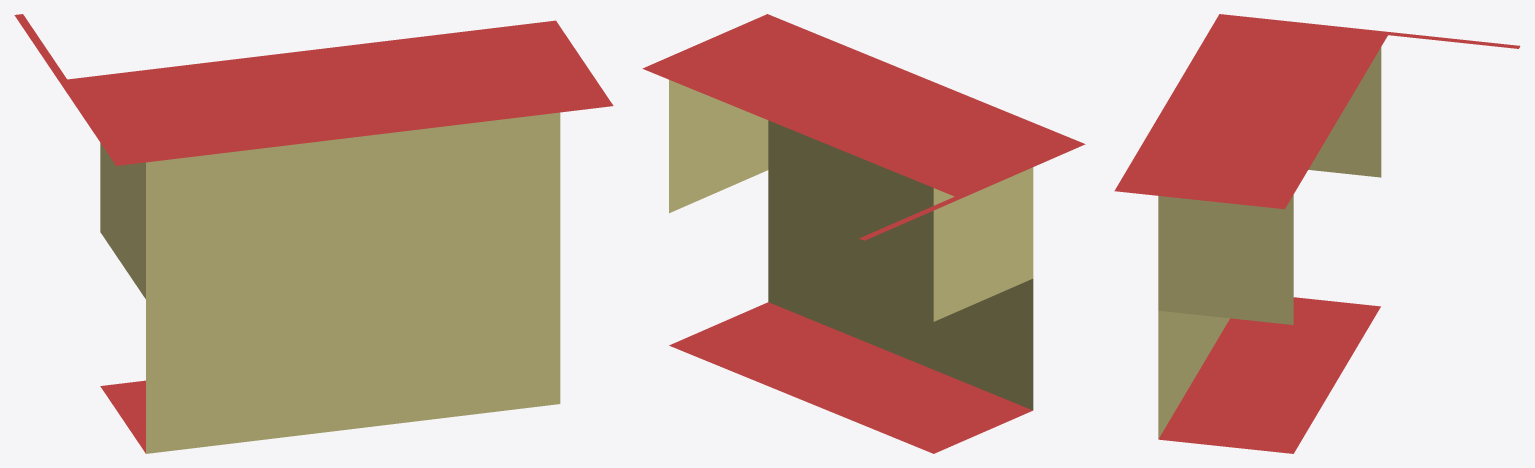
3 views of the same model, side by side, from view 1: azimuth 30°, elevation 25°; view 2: azimuth 150°, elevation 25°; view 3: azimuth 270°, elevation 25° (orthographic). The views are drawn at different scales.
Size of the model in its own units: 9.57 by 8.42 by 5.93.
